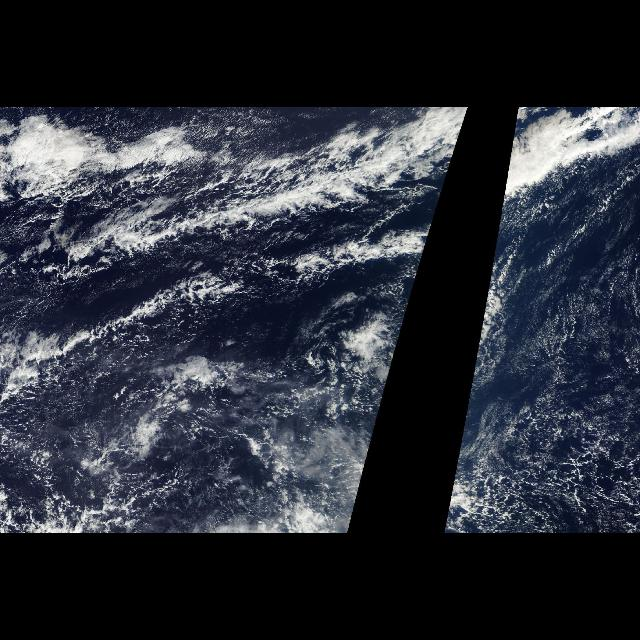Fish: (8, 110, 468, 398), (468, 110, 526, 398)
Gravel: (442, 241, 640, 534), (11, 138, 365, 240), (1, 413, 297, 533), (29, 293, 241, 391)
Sugar: (508, 170, 636, 406), (1, 108, 332, 190)
